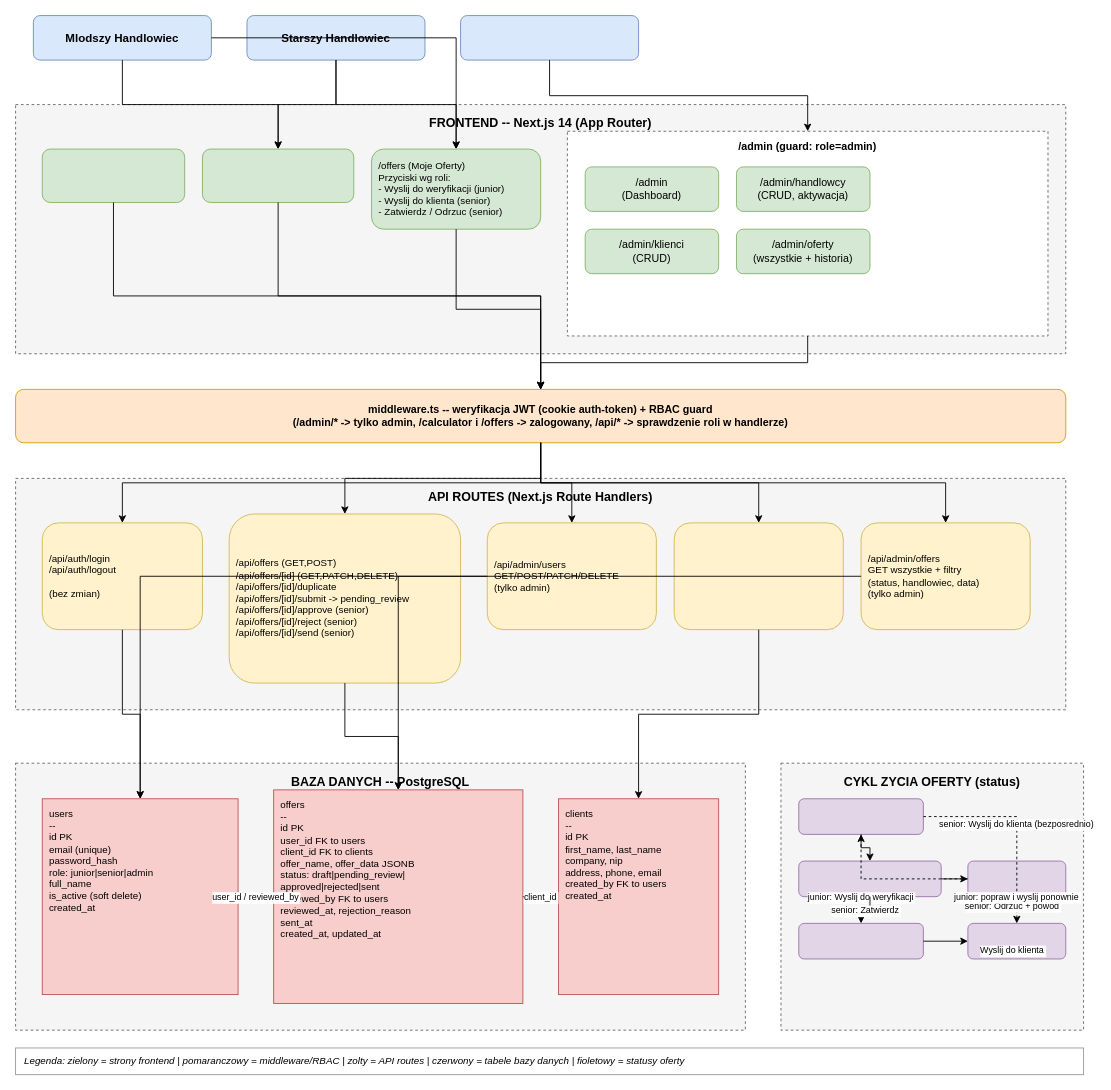
This 1111x1090 diagram has some shape labels left out. The shapes that lost their labels are listed below. From the top down, each one's centre as x and y in pixels, then its label:
At point (549, 37): "Admin".
At point (113, 175): "/ (Login)".
At point (278, 175): "/calculator (Kalkulator)".
At point (758, 576): "/api/admin/clients GET/POST/PATCH/DELETE (tylko admin)".
At point (860, 816): "DRAFT".
At point (869, 878): "PENDING_REVIEW".
At point (1016, 878): "REJECTED".
At point (860, 940): "APPROVED".
At point (1016, 940): "SENT".
